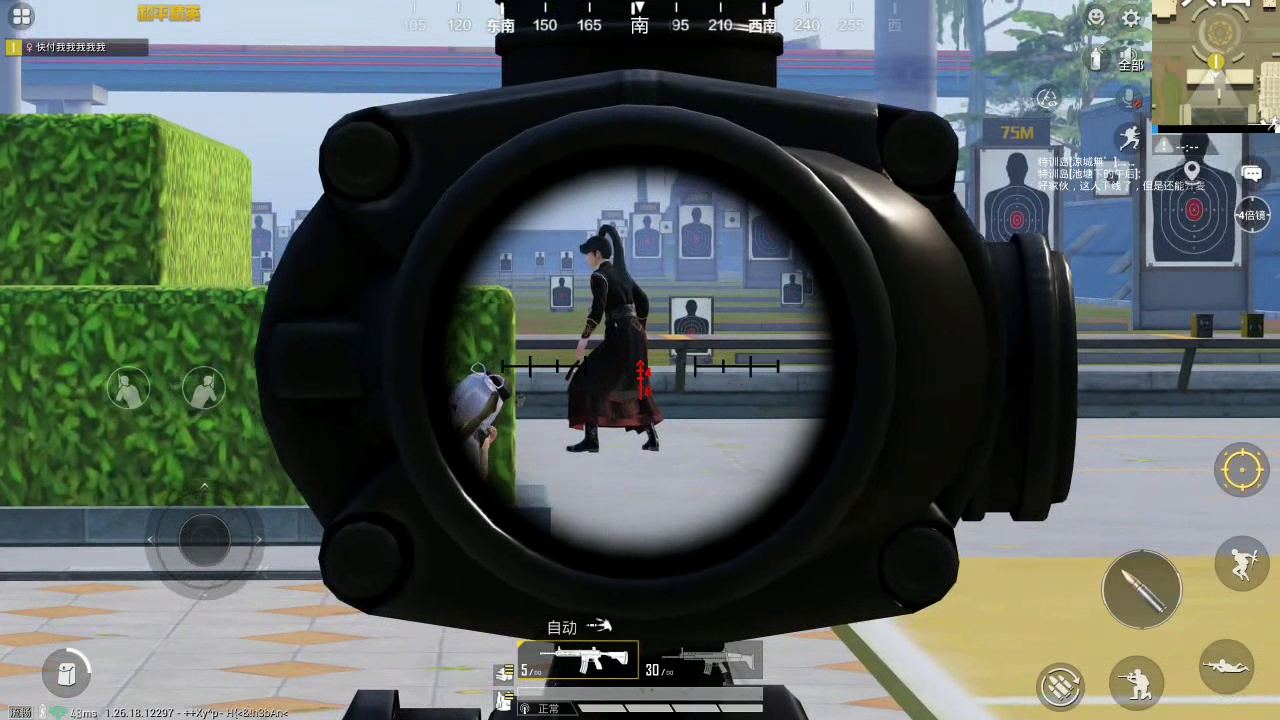enemy: (568, 235, 663, 457), (444, 370, 507, 484)
